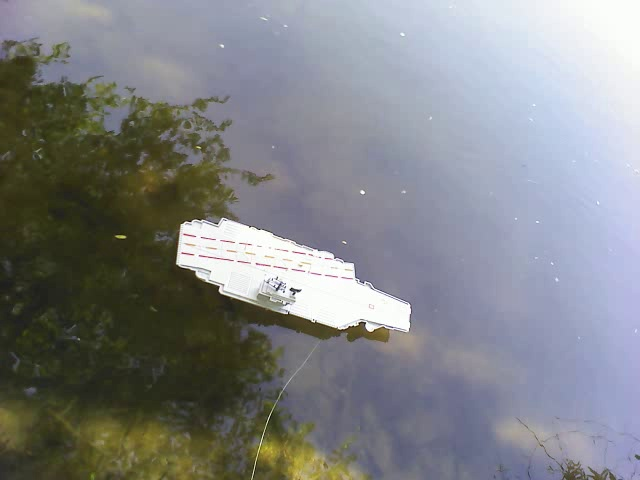aircraft_carrier: (172, 214, 413, 341)
